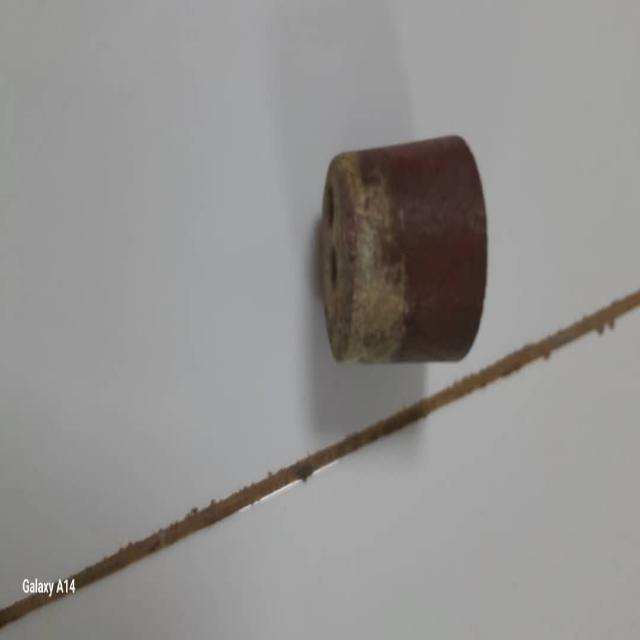Stopper: (316, 134, 490, 370)
